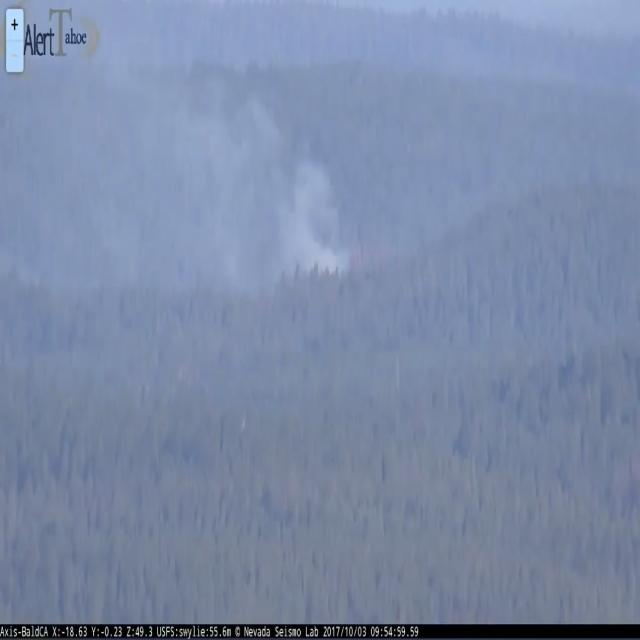smoke: (197, 98, 352, 282)
